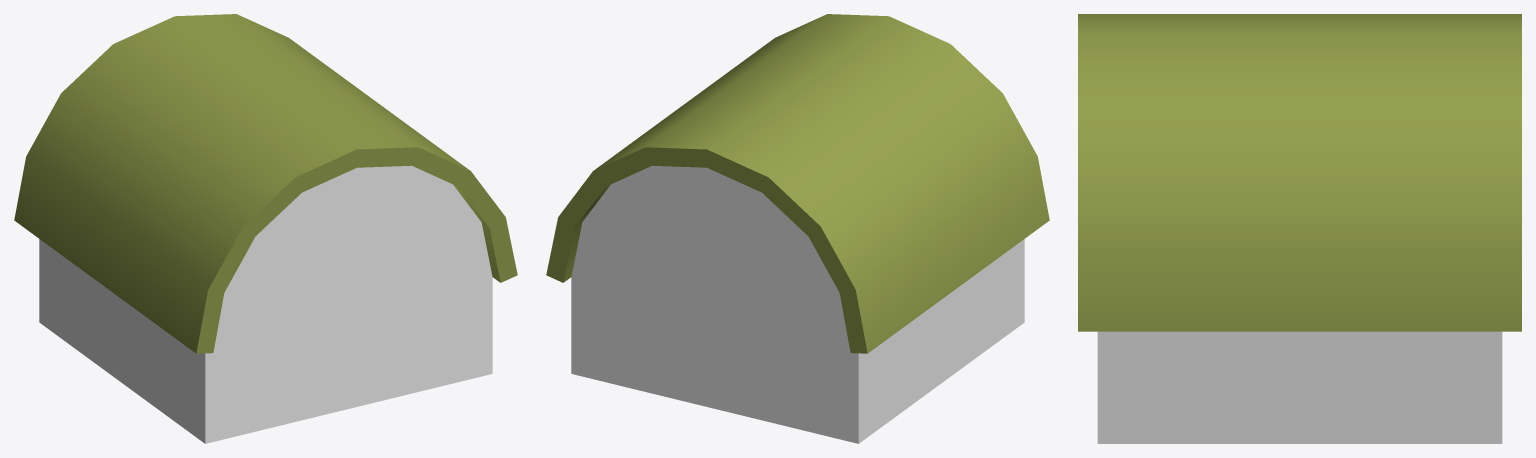
File: Map-House-R-Lv1-G.fbx
3 views of the same model, side by side, from view 1: azimuth 30°, elevation 25°; view 2: azimuth 150°, elevation 25°; view 3: azimuth 270°, elevation 25° (orthographic). The views are drawn at different scales.
Visible parts, largest first — view 1: Map-House-R-Lv1-G; view 2: Map-House-R-Lv1-G; view 3: Map-House-R-Lv1-G.
Boxes of the visible parts, box(x1,y1,x2,y2) form: Map-House-R-Lv1-G: box(14, 14, 517, 443); Map-House-R-Lv1-G: box(546, 14, 1049, 443); Map-House-R-Lv1-G: box(1078, 14, 1521, 443).
Size of the model in its own units: 1.34 by 1.06 by 1.32.
